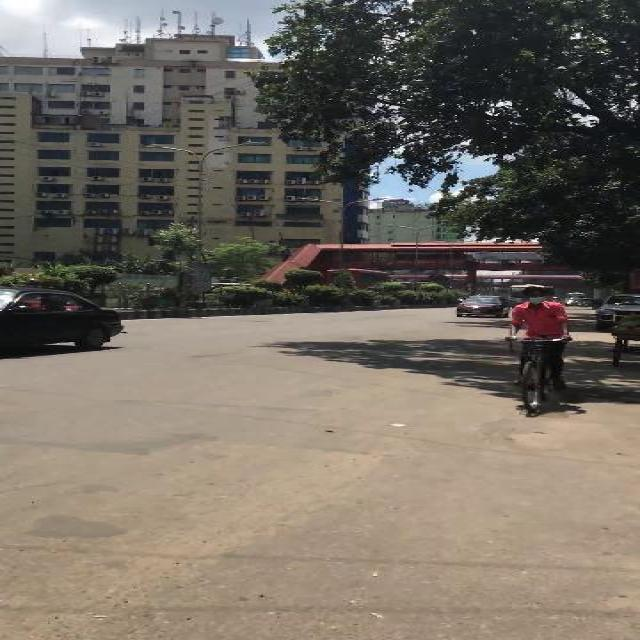bicycle: (501, 284, 576, 414)
bus: (508, 282, 556, 306)
car: (2, 282, 130, 350), (455, 294, 509, 318)
